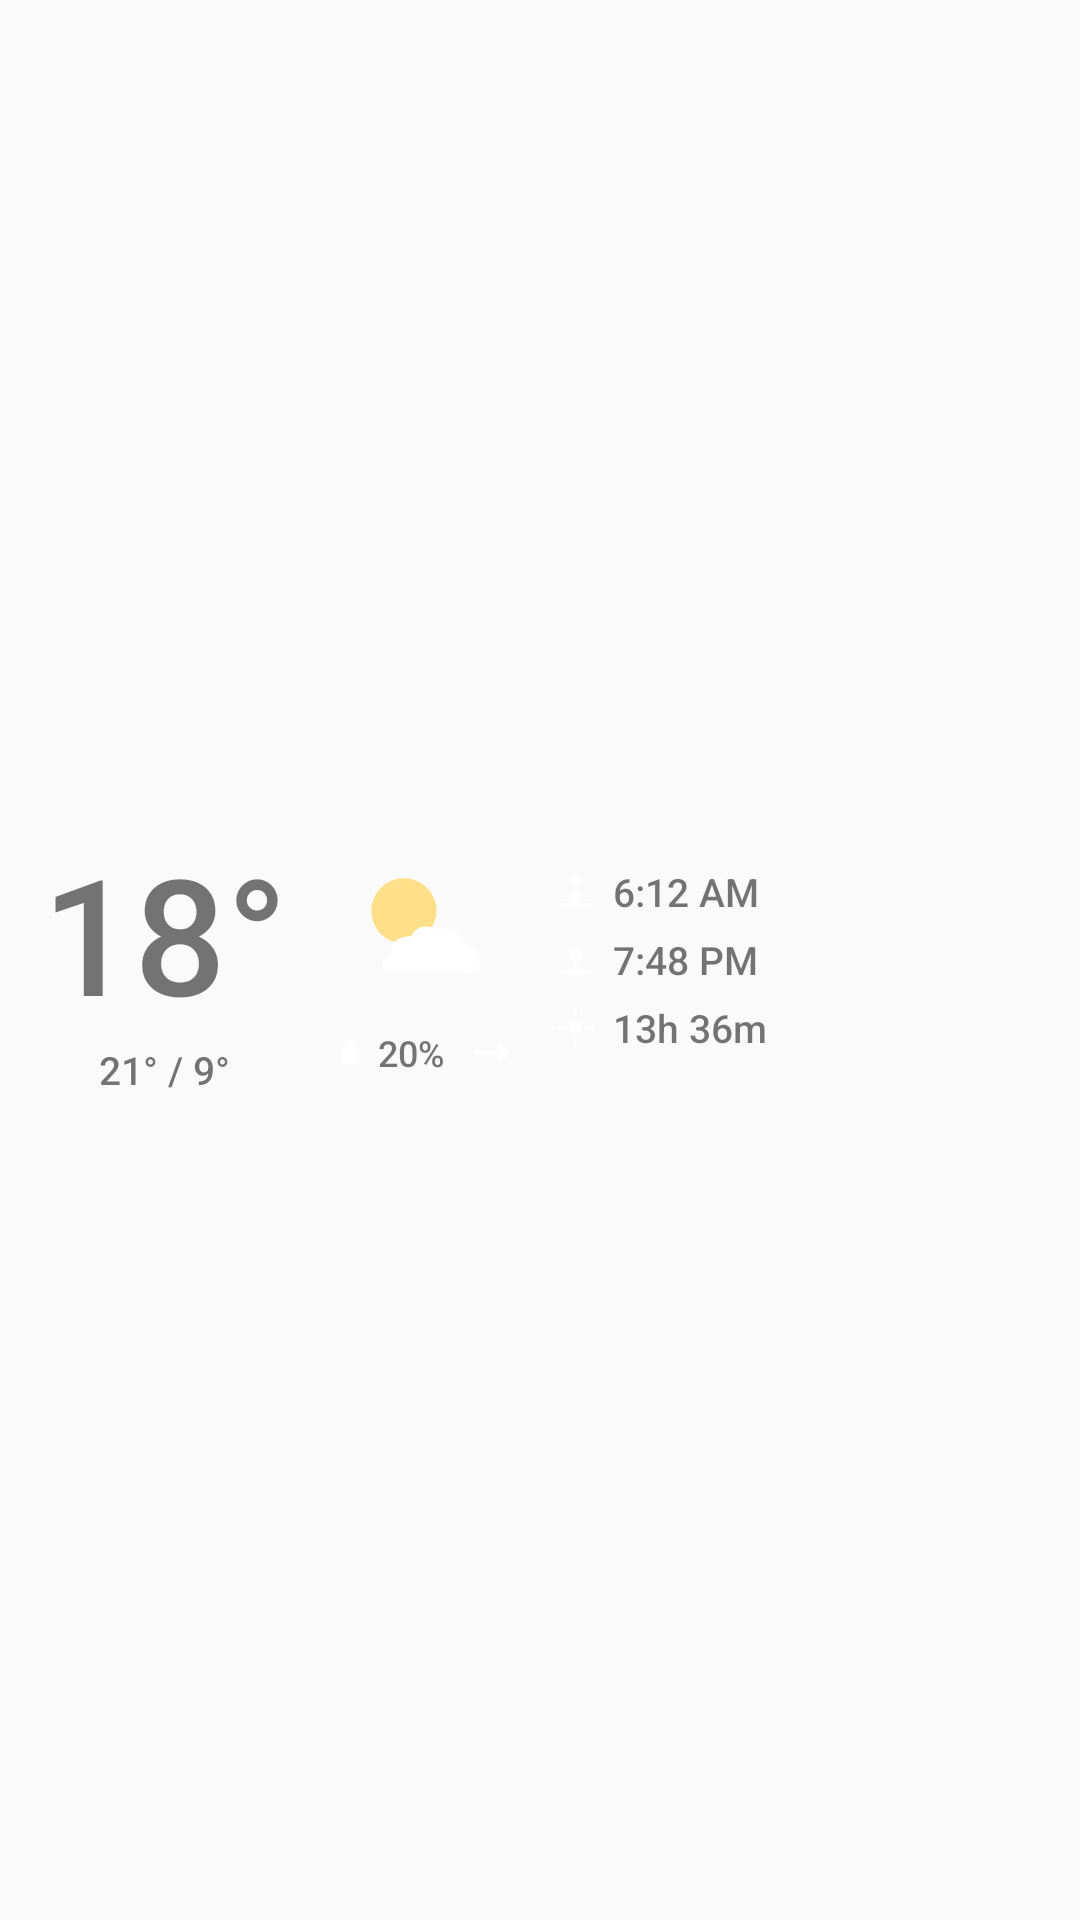

Named icons in this screenshot (1080×1920) and their bounding boxes, (x1, y1, x2, y2):
Current weather condition: (371, 878, 437, 942)
